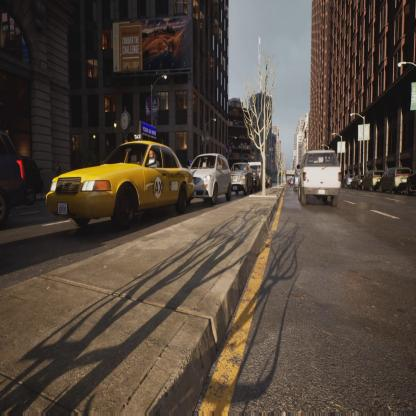License-Plate: (56, 201, 70, 218)
